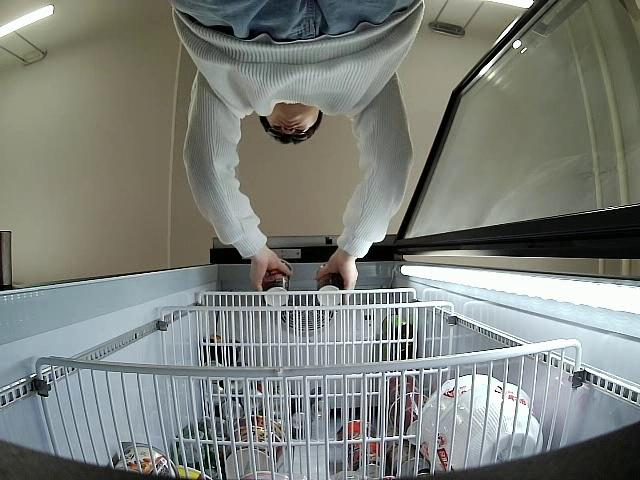00_hand: (313, 254, 359, 306), (249, 255, 294, 291)
08_buldak_S: (263, 259, 294, 307), (316, 266, 345, 309)
